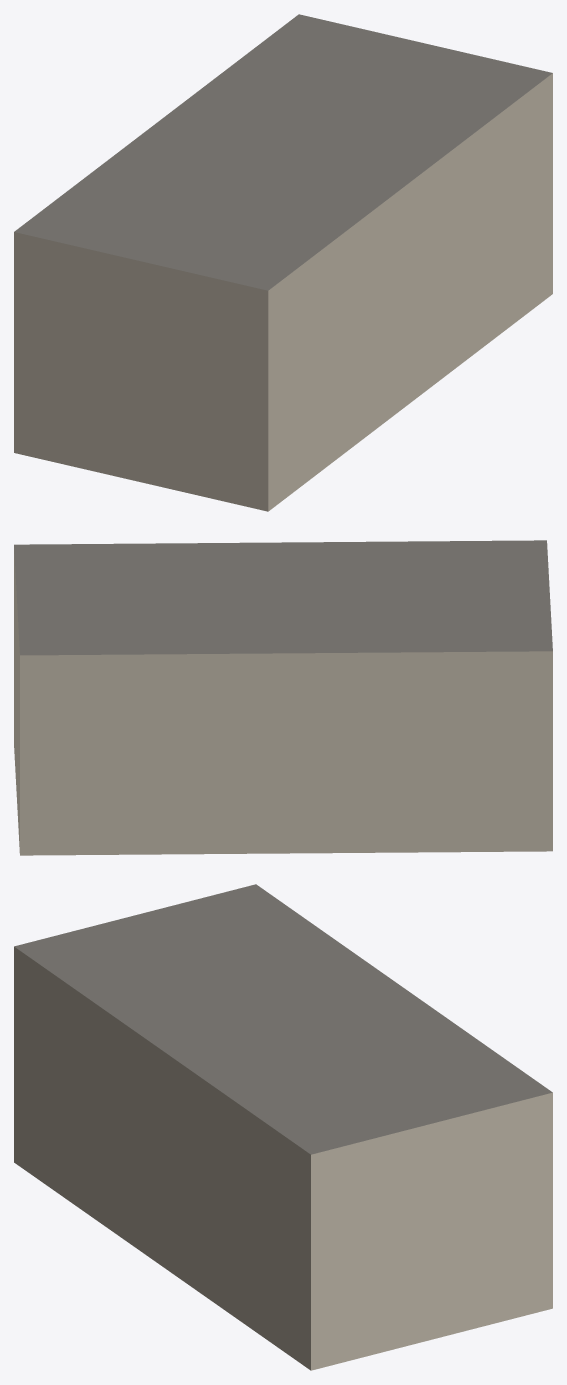
3 views of the same model, one above another, from view 1: azimuth 30°, elevation 25°; view 2: azimuth 150°, elevation 25°; view 3: azimuth 270°, elevation 25° (orthographic). The views are drawn at different scales.
Visible parts, largest first — view 1: HP-w1287262666; view 2: HP-w1287262666; view 3: HP-w1287262666.
Part boxes in pixels (bbox=[...]): HP-w1287262666: bbox=[14, 14, 552, 511]; HP-w1287262666: bbox=[14, 540, 552, 855]; HP-w1287262666: bbox=[14, 884, 552, 1370].
Bounding box in the file's own units: 48.34 × 18 × 40.7.
